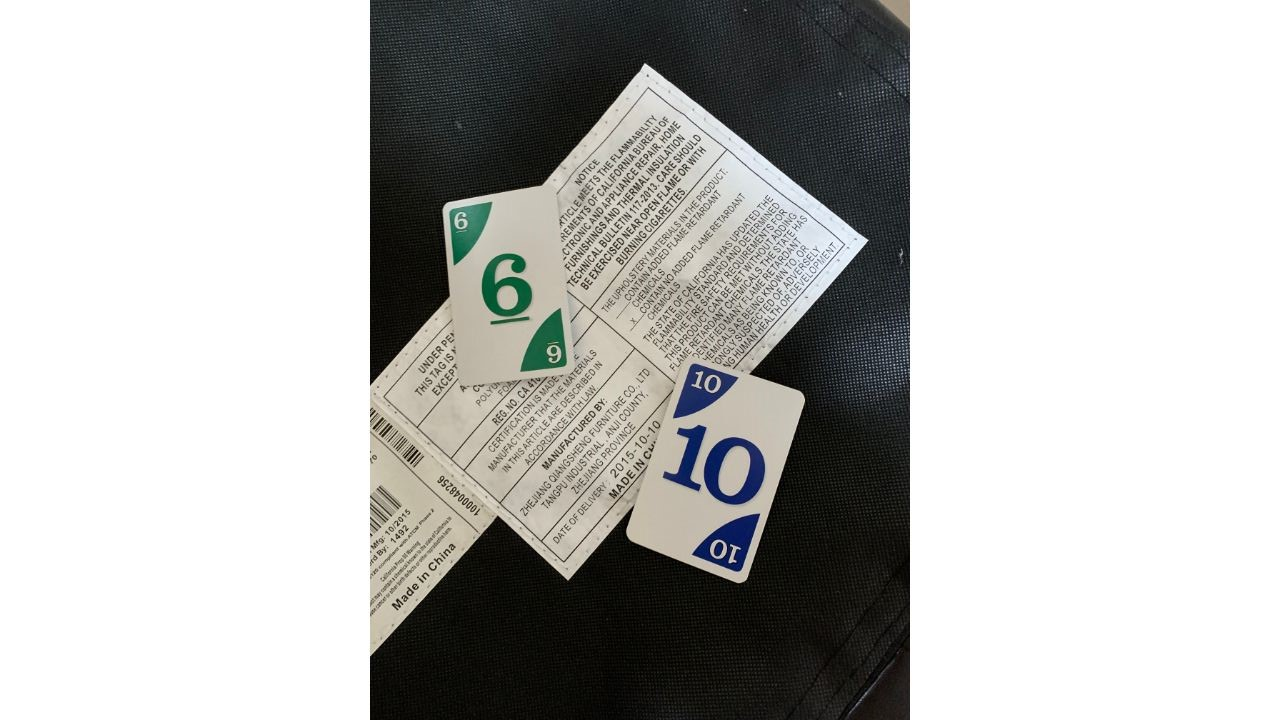six: (438, 182, 577, 385)
ten: (623, 355, 806, 588)
